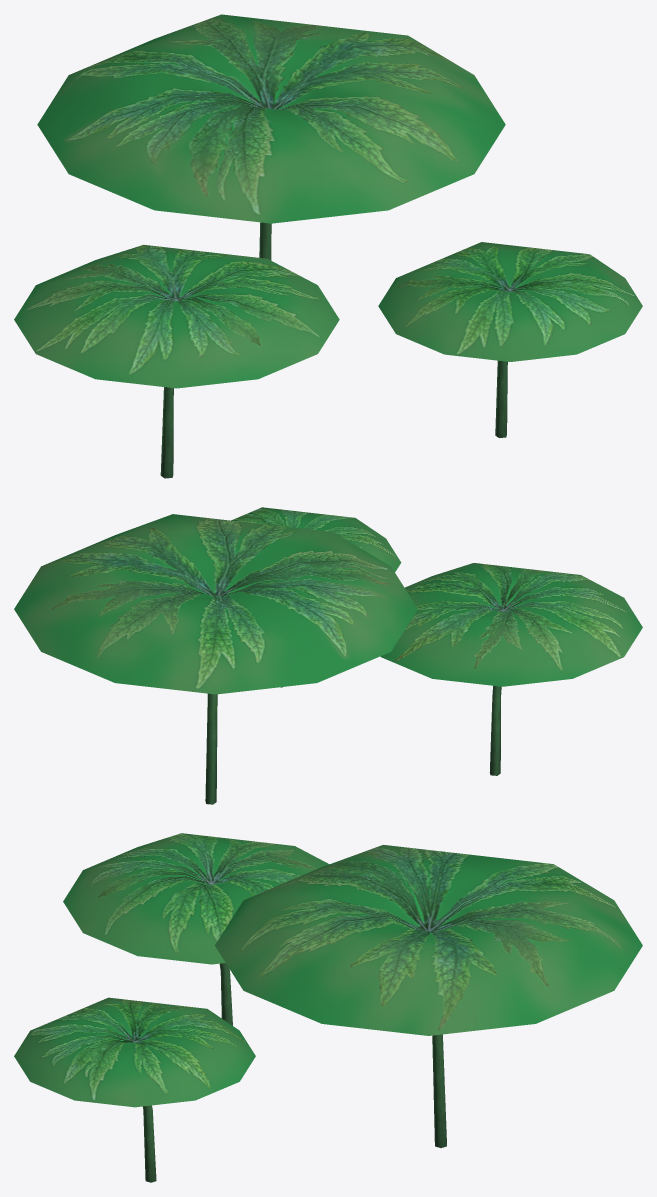
The model's file is Syneilesis palmata.FBX.
3 renders of one model, top to bottom at view 1: azimuth 30°, elevation 25°; view 2: azimuth 150°, elevation 25°; view 3: azimuth 270°, elevation 25°, orthographic. The views are drawn at different scales.
Parts seen in each view (by area): view 1: Syneilesis palmata01, Syneilesis palmata02, Syneilesis palmata03; view 2: Syneilesis palmata01, Syneilesis palmata02, Syneilesis palmata03; view 3: Syneilesis palmata01, Syneilesis palmata02, Syneilesis palmata03.
Boxes of the visible parts, x1,y1,x2,y2 form: Syneilesis palmata01: [37, 14, 505, 260]; Syneilesis palmata02: [14, 244, 339, 478]; Syneilesis palmata03: [378, 242, 642, 437]; Syneilesis palmata01: [14, 514, 417, 804]; Syneilesis palmata02: [380, 563, 642, 775]; Syneilesis palmata03: [231, 507, 401, 687]; Syneilesis palmata01: [215, 845, 642, 1147]; Syneilesis palmata02: [63, 833, 329, 1025]; Syneilesis palmata03: [14, 997, 255, 1182].
Bounding box in the file's own units: 47.22 × 21.26 × 50.5.
